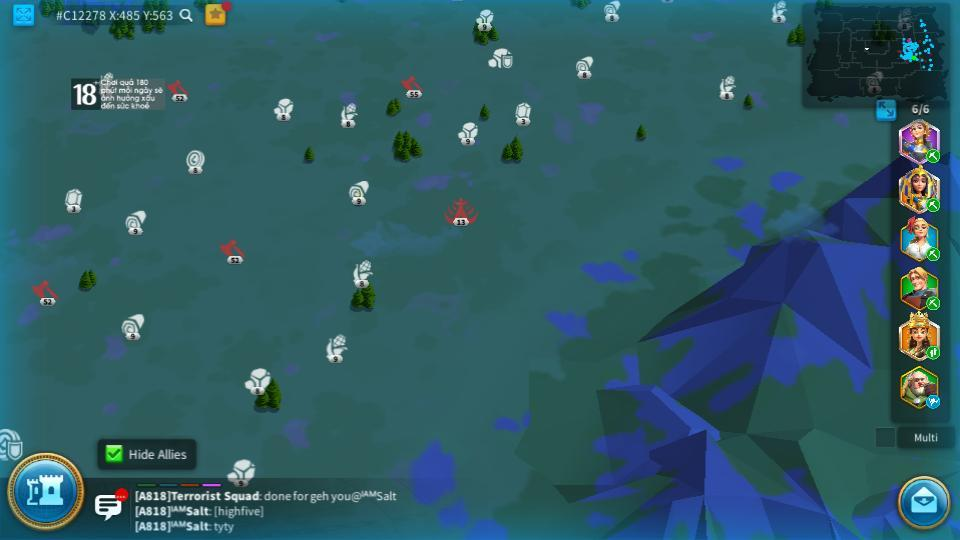gem-z-out: (62, 188, 83, 211), (513, 101, 531, 122)
march_idle: (925, 396, 942, 408)
march_marching: (925, 197, 941, 212), (924, 345, 939, 359), (925, 149, 941, 162), (926, 297, 941, 308)
